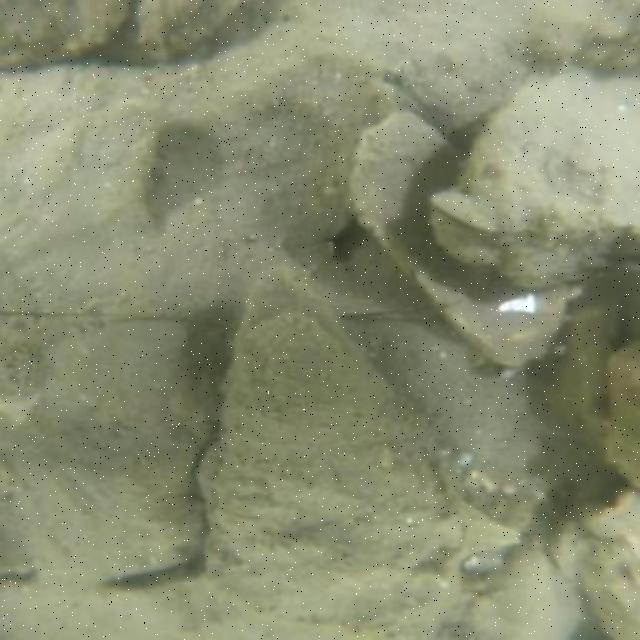Oyster-Closed: (197, 271, 467, 638), (348, 110, 578, 370), (6, 326, 210, 578), (442, 71, 636, 286), (224, 6, 523, 125), (16, 99, 162, 234), (441, 546, 577, 638), (567, 497, 638, 638), (4, 2, 130, 69), (132, 1, 248, 63), (606, 343, 638, 490)
